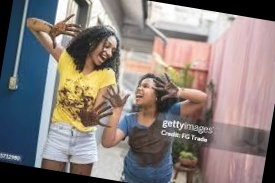earth: (126, 134, 167, 164), (56, 82, 80, 111)
